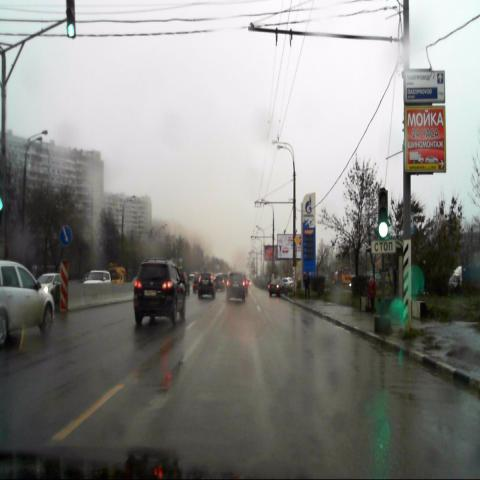4_2_1: (60, 225, 72, 247)
